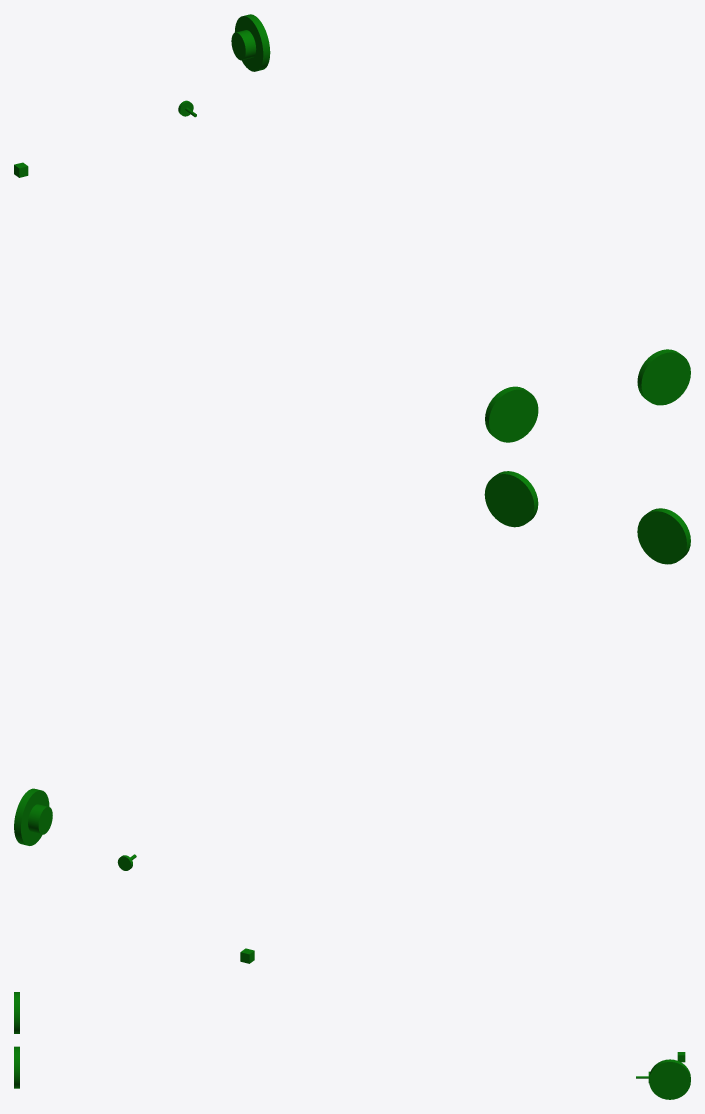
File: Image-1710907554410-2281277197456_27-XJ50-TAGS.fbx
The picture shows the model from 3 angles, top to bottom: view 1: azimuth 30°, elevation 25°; view 2: azimuth 150°, elevation 25°; view 3: azimuth 270°, elevation 25°; orthographic projection. The views are drawn at different scales.
Parts seen in each view (by area): view 1: /27-XJ50/N3, /27-XJ50/N2, /27-XJ50/N1; view 2: /27-XJ50/N2, /27-XJ50/N3, /27-XJ50/N1; view 3: /27-XJ50/N1, /27-XJ50/N3, /27-XJ50/N2.
Part boxes in pixels (x1=…): /27-XJ50/N3: x1=637, y1=349, x2=690, y2=405; /27-XJ50/N2: x1=485, y1=386, x2=538, y2=442; /27-XJ50/N1: x1=231, y1=14, x2=270, y2=71; /27-XJ50/N2: x1=637, y1=508, x2=690, y2=564; /27-XJ50/N3: x1=484, y1=471, x2=538, y2=527; /27-XJ50/N1: x1=14, y1=788, x2=52, y2=845; /27-XJ50/N1: x1=649, y1=1059, x2=690, y2=1099; /27-XJ50/N3: x1=14, y1=1046, x2=19, y2=1088; /27-XJ50/N2: x1=14, y1=992, x2=19, y2=1033.
Bounding box in the file's own units: 2.55 × 8.81 × 1.15.
